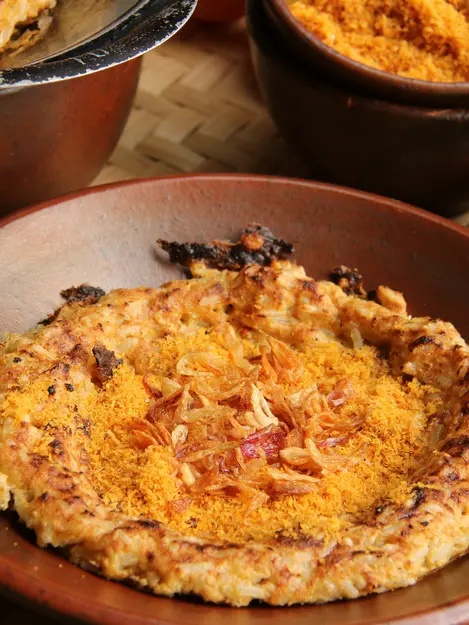kerak_telor: (8, 253, 466, 586)
